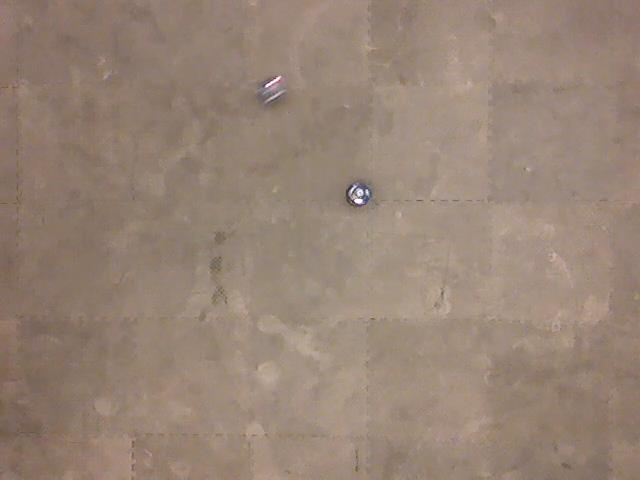Agent: (253, 73, 288, 106), (344, 180, 373, 208)
